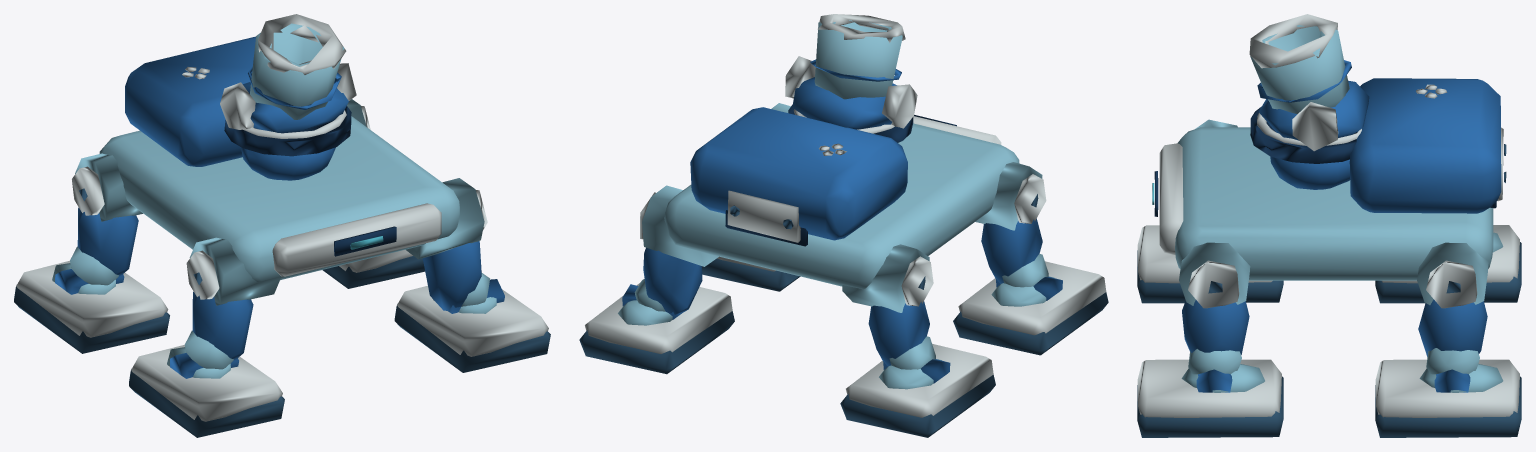
File: TOY_BRIGADIER.far.glb
3 views of the same model, side by side, from view 1: azimuth 30°, elevation 25°; view 2: azimuth 150°, elevation 25°; view 3: azimuth 270°, elevation 25° (orthographic). The views are drawn at different scales.
Parts seen in each view (by area): view 1: Body, Mortar, Foot_BL, Foot_FL, Foot_FR, Leg_FL, Leg_BL, Leg_FR, Foot_BR; view 2: Body, Mortar, Foot_BL, Foot_FL, Foot_BR, Leg_BL, Leg_FL, Leg_BR, Foot_FR; view 3: Body, Mortar, Foot_BR, Foot_FR, Leg_BR, Leg_FR, Foot_FL, Foot_BL.
Boxes of the visible parts, bbox=[...] form: Body: bbox=[99, 36, 459, 282]; Mortar: bbox=[220, 14, 356, 133]; Foot_BL: bbox=[14, 260, 169, 353]; Foot_FL: bbox=[129, 345, 284, 437]; Foot_FR: bbox=[394, 279, 550, 372]; Leg_FL: bbox=[184, 237, 280, 369]; Leg_BL: bbox=[70, 153, 142, 285]; Leg_FR: bbox=[406, 178, 489, 310]; Foot_BR: bbox=[322, 249, 425, 288]; Body: bbox=[664, 104, 1019, 289]; Mortar: bbox=[785, 14, 917, 129]; Foot_BL: bbox=[840, 343, 995, 437]; Foot_FL: bbox=[953, 261, 1108, 355]; Foot_BR: bbox=[579, 282, 734, 374]; Leg_BL: bbox=[842, 244, 935, 369]; Leg_FL: bbox=[975, 162, 1048, 287]; Leg_BR: bbox=[634, 185, 718, 314]; Foot_FR: bbox=[702, 256, 800, 291]; Body: bbox=[1152, 78, 1506, 280]; Mortar: bbox=[1249, 14, 1369, 151]; Foot_BR: bbox=[1375, 359, 1521, 437]; Foot_FR: bbox=[1137, 359, 1283, 437]; Leg_BR: bbox=[1417, 242, 1488, 374]; Leg_FR: bbox=[1179, 242, 1250, 374]; Foot_FL: bbox=[1137, 225, 1283, 303]; Foot_BL: bbox=[1375, 225, 1521, 303].
Bounding box in the file's own units: 3.13 × 2.58 × 2.78.
